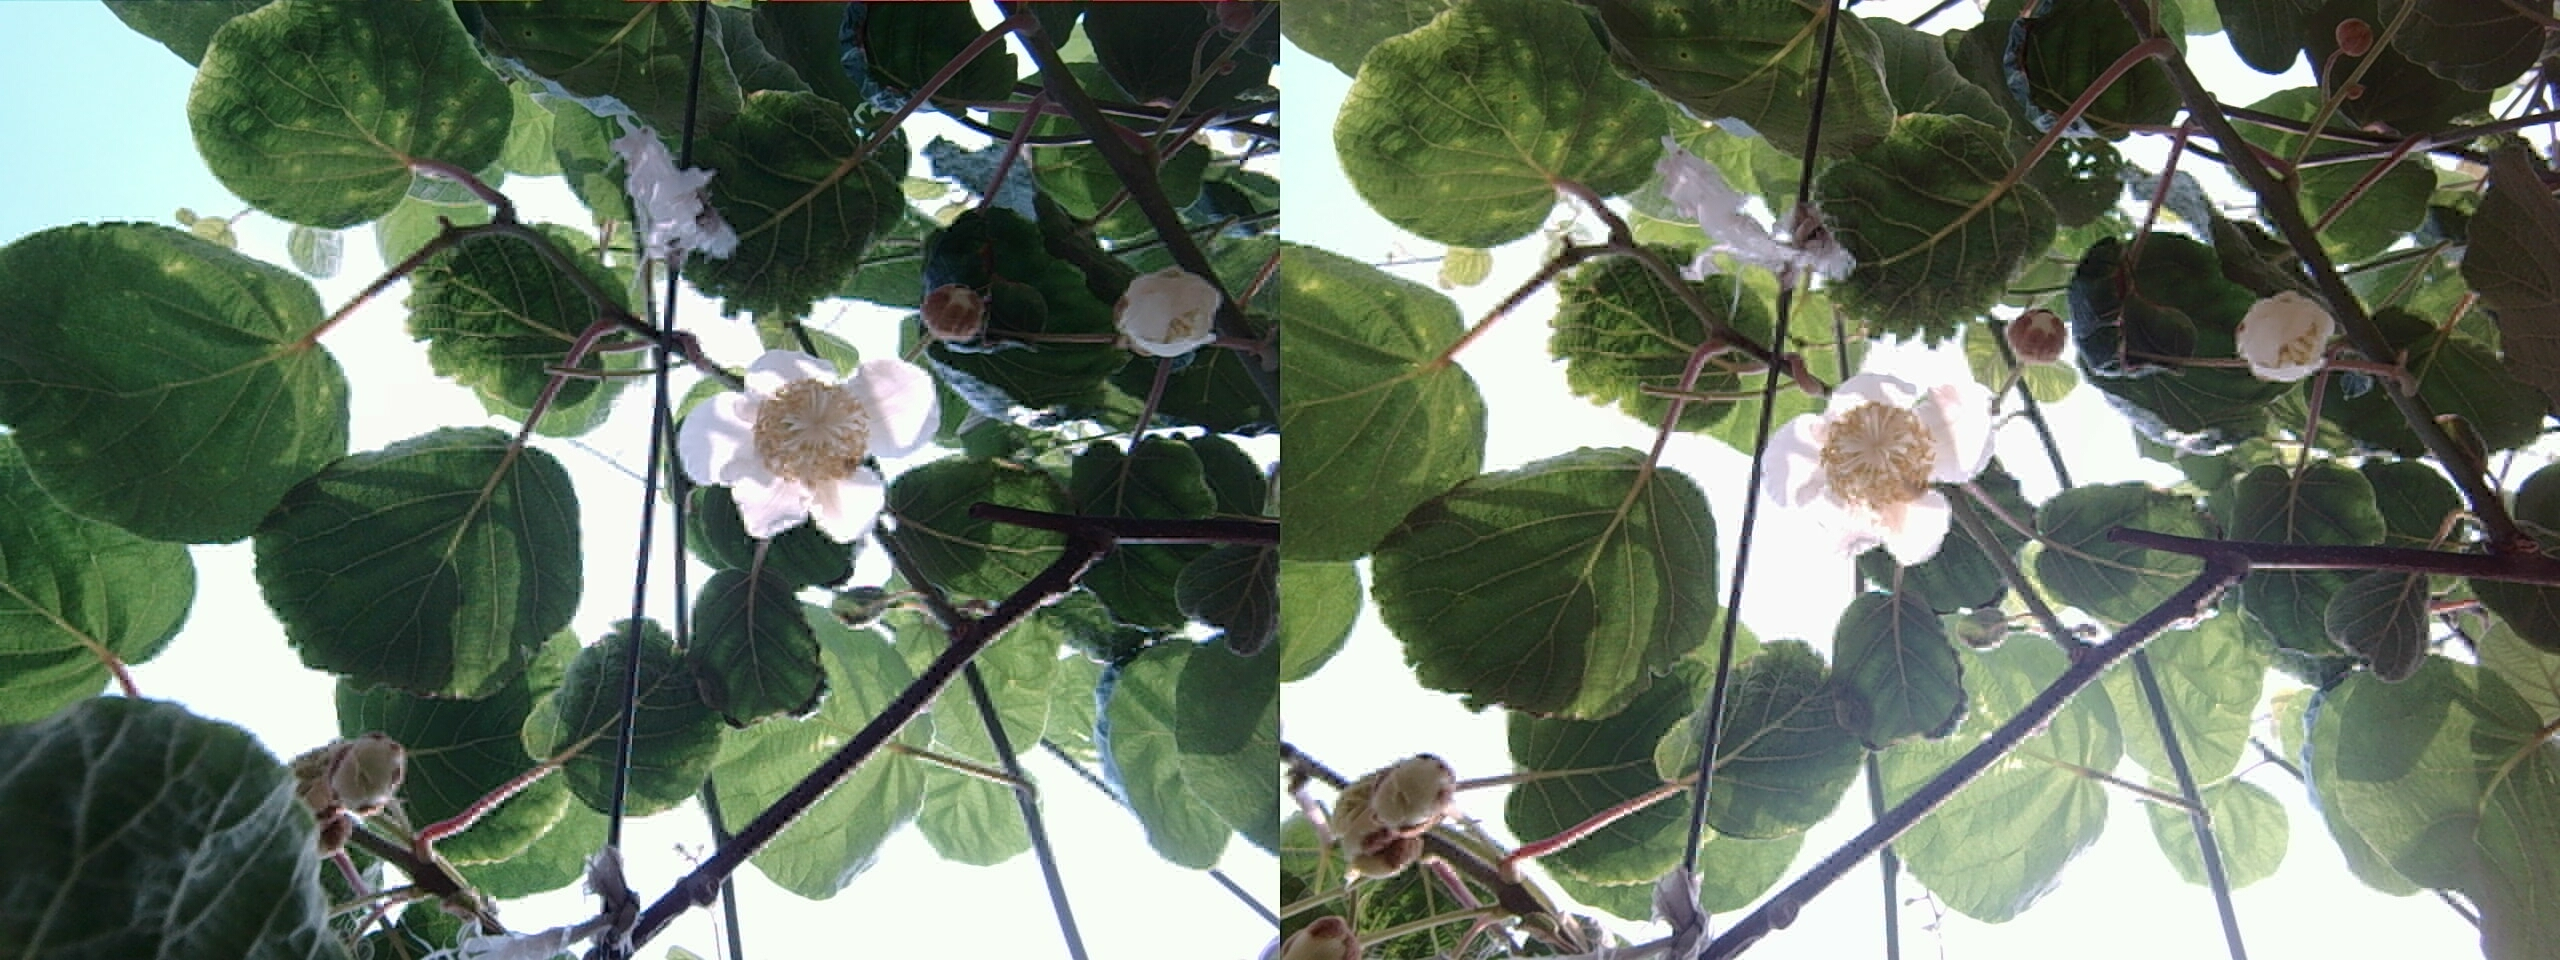flower: (684, 328, 931, 553), (1776, 348, 1979, 557)
